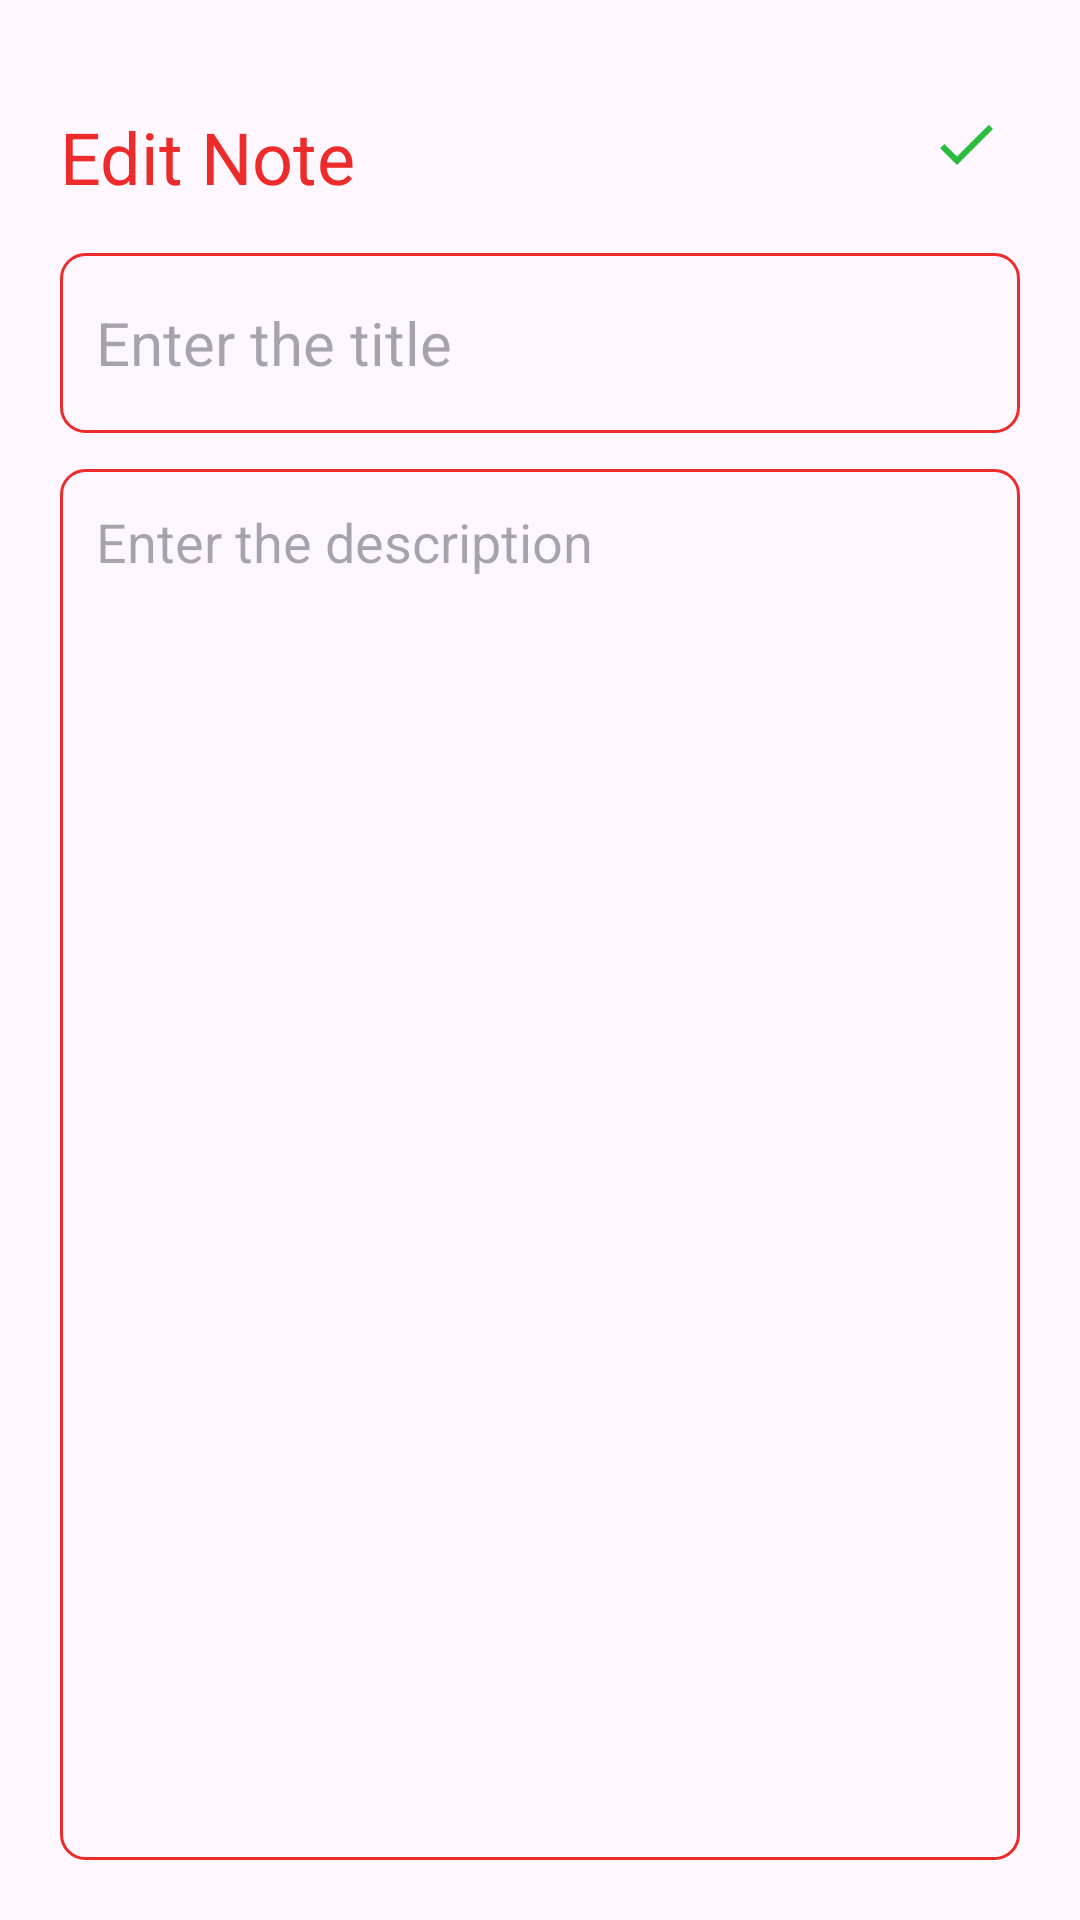

Locate icon controls on the screen. Image size 1080*1920, boxes as {"x1": x1, "y1": y1, "x2": x2, "y2": y2}.
done: {"x1": 940, "y1": 125, "x2": 993, "y2": 165}
